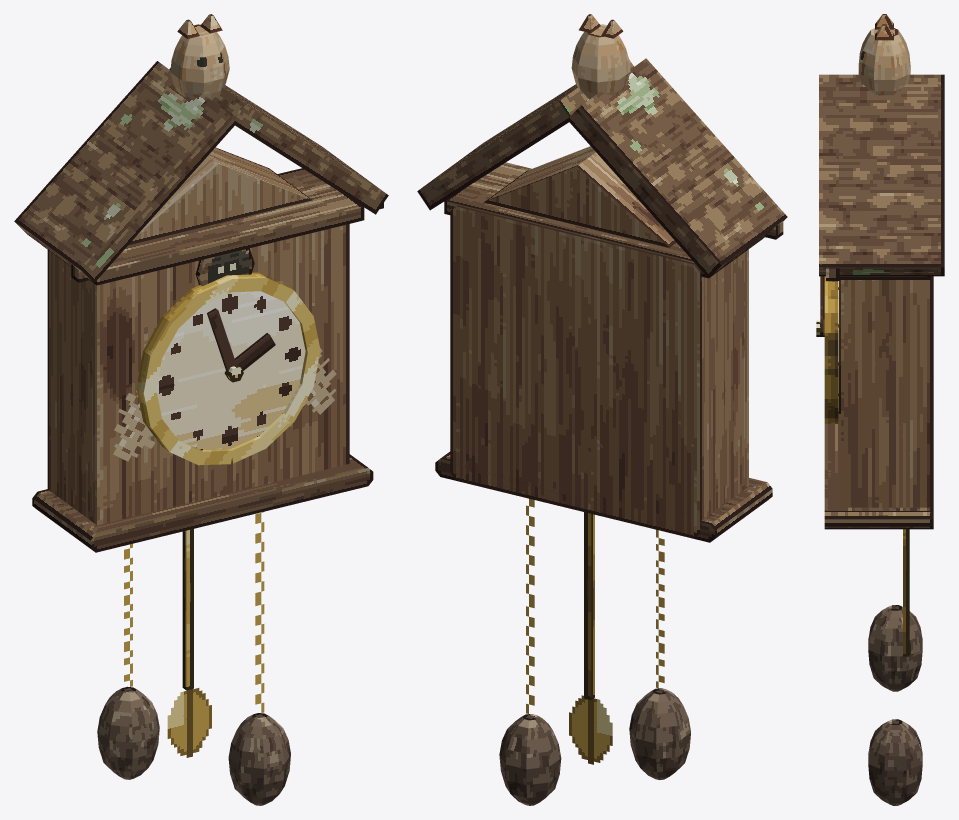
The model's file is cuckoo.glb.
3 views of the same model, side by side, from view 1: azimuth 30°, elevation 25°; view 2: azimuth 150°, elevation 25°; view 3: azimuth 270°, elevation 25° (orthographic). The views are drawn at different scales.
Visible parts, largest first — view 1: house, roof-1, dial, sill, eave, bezel, gable, roof1, cone0, cone1, owl, bob0 (+8 smaller); view 2: house, roof-1, gable, roof1, cone1, cone0, eave, owl, sill, bob0, rod, chain1 (+1 smaller); view 3: roof1, house, sill, cone1, cone0, owl, bezel, rod, roof-1, dial, eave.
Part boxes in pixels (left/top/right/bottom): house: left=47, top=172, right=349, bottom=525; roof-1: left=14, top=61, right=236, bottom=282; dial: left=156, top=291, right=305, bottom=450; sill: left=32, top=454, right=373, bottom=552; eave: left=43, top=168, right=364, bottom=285; bezel: left=136, top=272, right=320, bottom=465; gable: left=128, top=147, right=312, bottom=245; roof1: left=169, top=68, right=388, bottom=214; cone0: left=97, top=686, right=159, bottom=779; cone1: left=228, top=713, right=290, bottom=805; owl: left=170, top=24, right=229, bottom=100; bob0: left=167, top=688, right=211, bottom=757; house: left=450, top=205, right=748, bottom=538; roof-1: left=567, top=58, right=787, bottom=278; gable: left=484, top=146, right=676, bottom=247; roof1: left=417, top=59, right=633, bottom=210; cone1: left=499, top=714, right=561, bottom=805; cone0: left=629, top=688, right=690, bottom=779; eave: left=444, top=162, right=759, bottom=277; owl: left=571, top=24, right=630, bottom=99; sill: left=435, top=451, right=772, bottom=542; bob0: left=569, top=695, right=612, bottom=764; rod: left=584, top=512, right=594, bottom=699; chain1: left=526, top=498, right=534, bottom=713; roof1: left=819, top=84, right=944, bottom=276; house: left=841, top=276, right=933, bottom=507; sill: left=824, top=414, right=933, bottom=529; cone1: left=868, top=719, right=922, bottom=805; cone0: left=868, top=605, right=922, bottom=691; owl: left=858, top=28, right=910, bottom=95; bezel: left=824, top=276, right=838, bottom=423; rod: left=903, top=529, right=909, bottom=656; roof-1: left=819, top=74, right=944, bottom=84; dial: left=838, top=280, right=840, bottom=413; eave: left=839, top=276, right=930, bottom=279.
Bounding box in the file's own units: 0.7614 × 1.91 × 0.2937.
2 materials, 2 textured.
